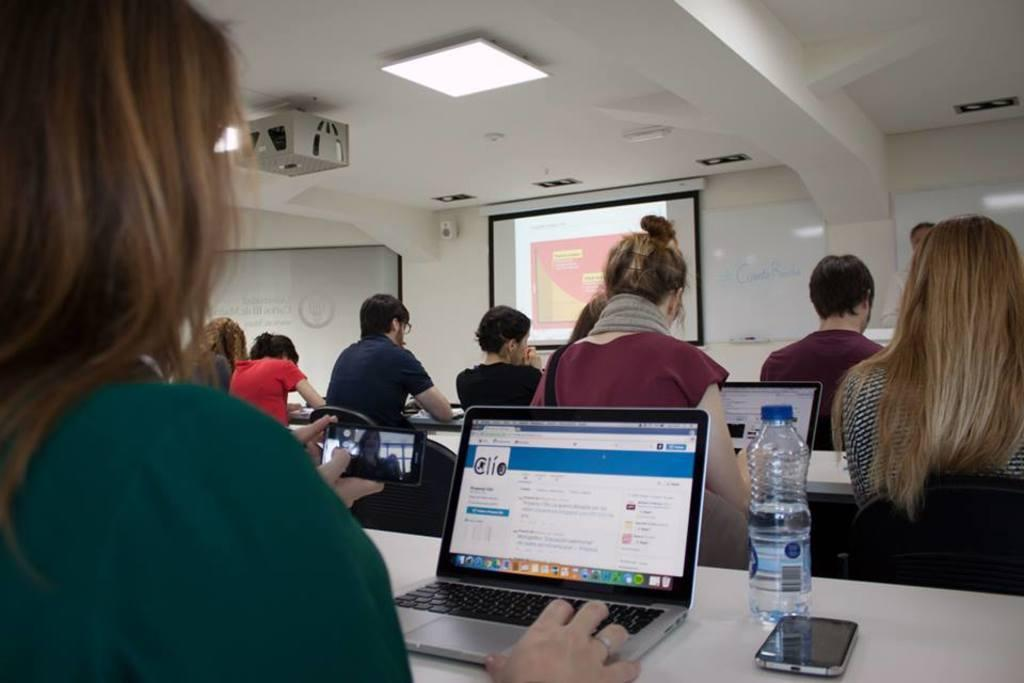Laptop: (394, 408, 724, 664), (720, 383, 822, 452)
